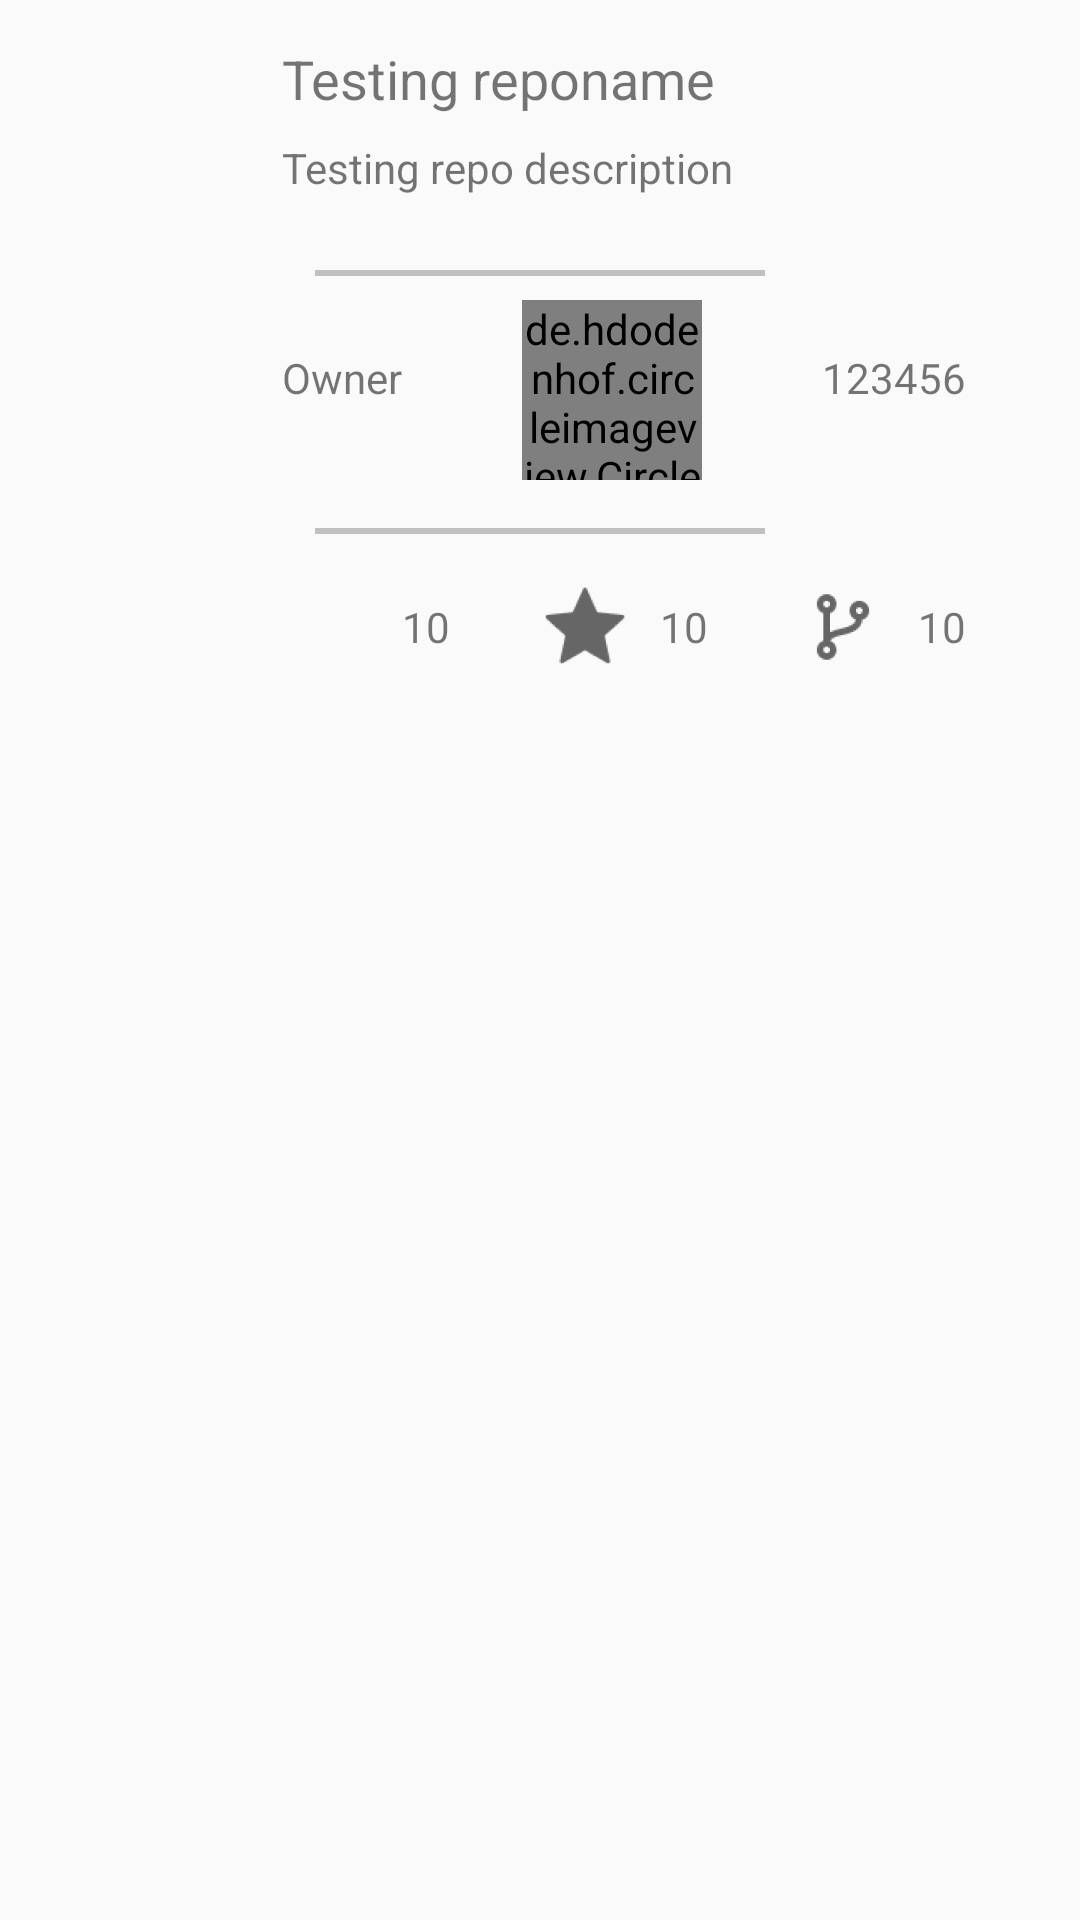

Icons on this 1080x1920 Android screen, each with its box as (x1, y1, x2, y2):
fork: (817, 594, 869, 660)
star: (545, 587, 625, 664)
